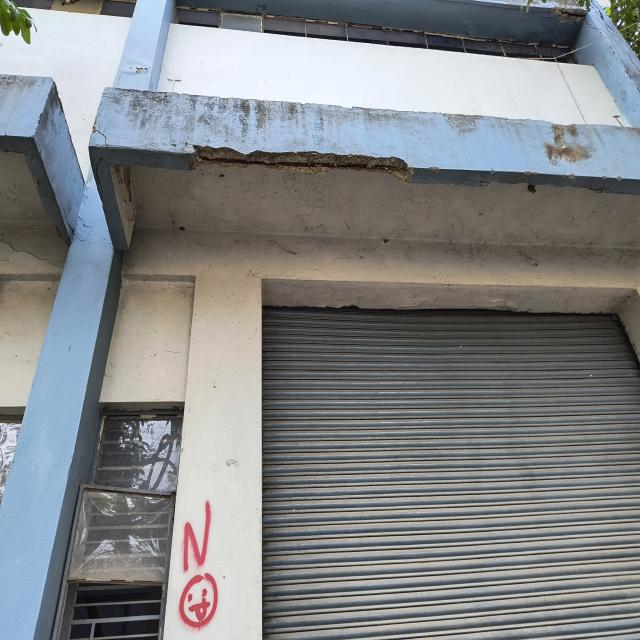crack: (590, 0, 627, 55), (1, 238, 64, 268), (584, 17, 624, 63), (27, 129, 49, 165), (95, 156, 111, 202), (60, 204, 75, 242), (621, 43, 639, 71), (92, 128, 109, 157), (618, 34, 635, 56), (102, 92, 132, 100), (3, 128, 7, 150), (118, 69, 122, 88)
peeling: (110, 165, 138, 249), (508, 20, 577, 46), (123, 59, 150, 74)
spalling: (188, 146, 412, 181), (529, 5, 587, 24)
stain_mould: (99, 89, 569, 170), (544, 126, 594, 165)
